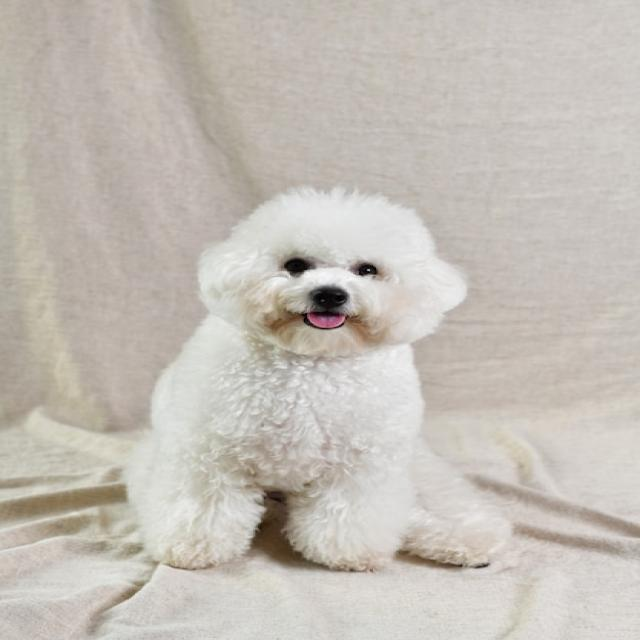Dog: (31, 187, 514, 570)
